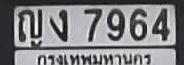4: (151, 7, 168, 40)
6: (129, 7, 146, 40)
7: (83, 8, 101, 41)
9: (106, 8, 124, 40)
A07: (49, 9, 67, 41)
A13: (17, 9, 42, 42)
BKK: (34, 49, 153, 65)
